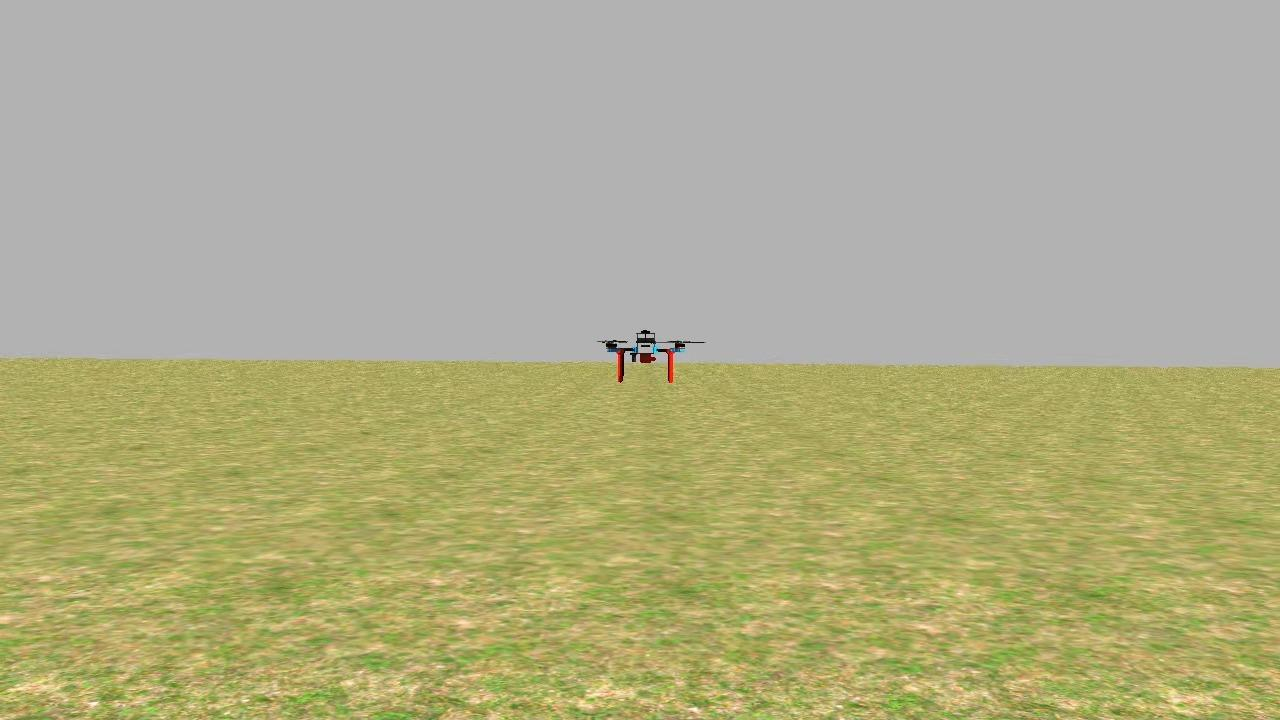UAV: (588, 316, 699, 391)
